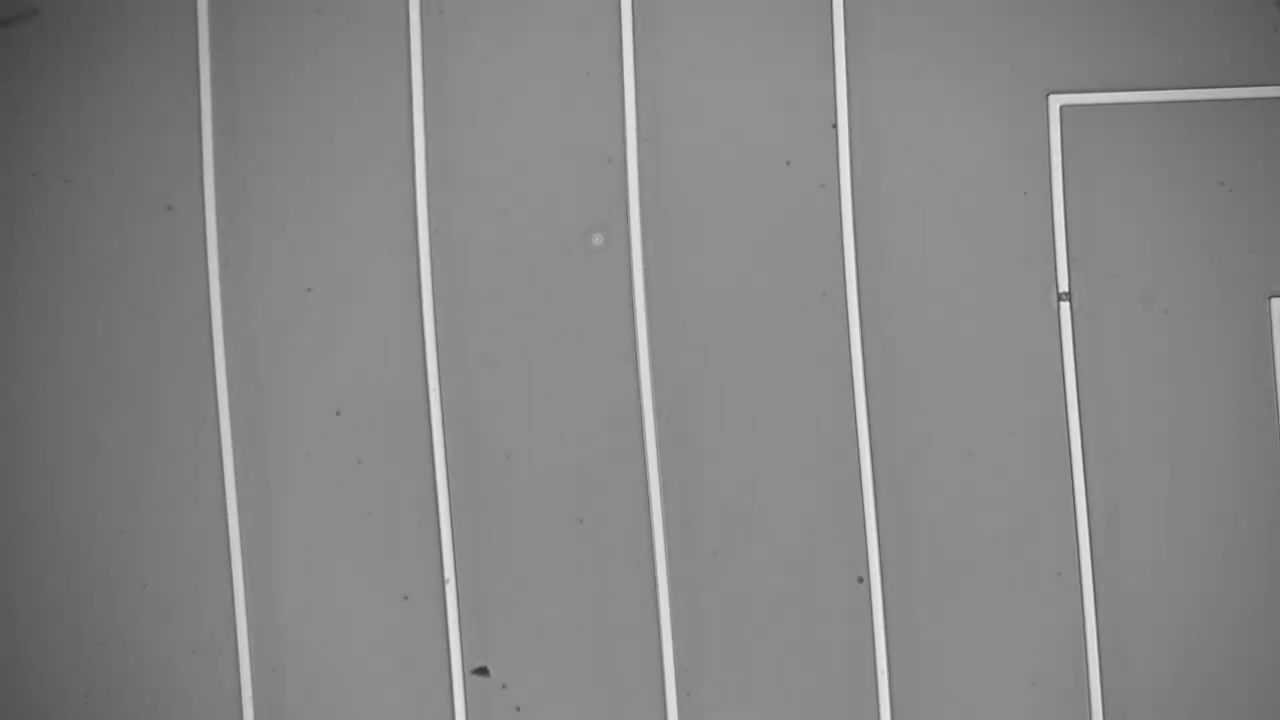stains_enbedded: (1045, 280, 1082, 307)
